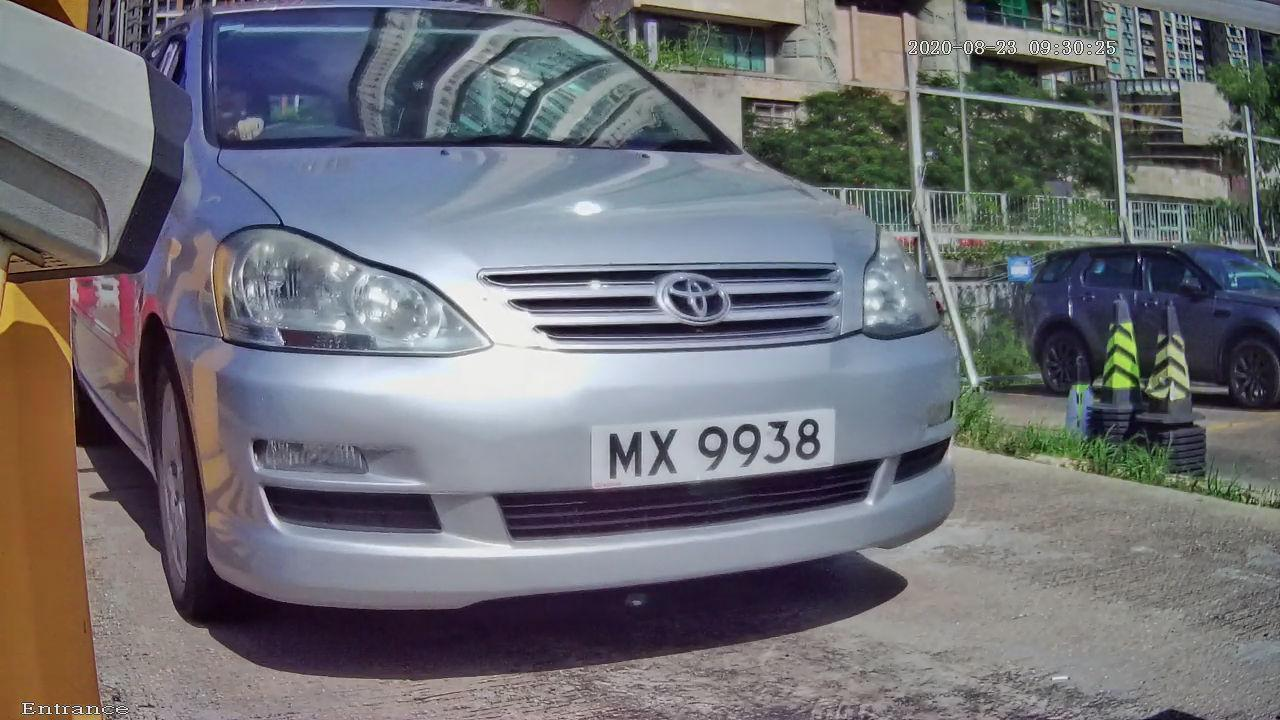Car: (35, 17, 1086, 653)
License Plate: (544, 366, 865, 510)
